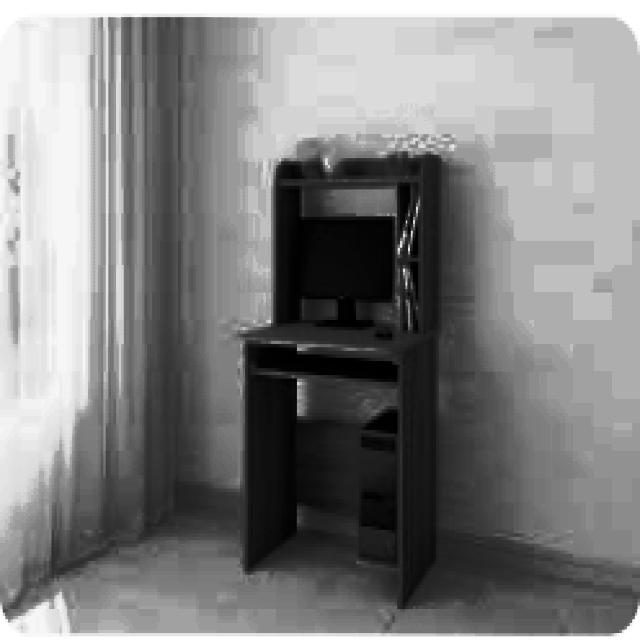table: (240, 316, 439, 606)
